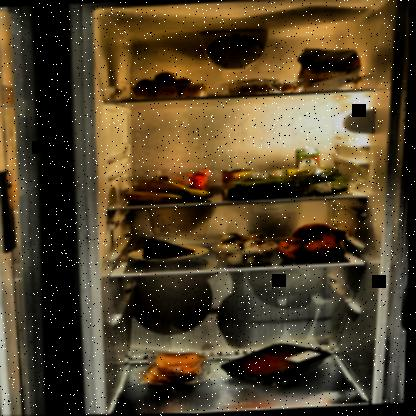banana: (122, 175, 216, 207)
beef: (220, 341, 336, 390)
cheese: (143, 236, 198, 261)
corn: (221, 167, 257, 200)
heavy_cream: (295, 147, 323, 188)
mushrooms: (212, 230, 276, 268)
potato: (132, 69, 209, 101)
shrimp: (227, 81, 307, 99)
spinach: (226, 167, 354, 202)
sweet_potato: (276, 221, 358, 266)
